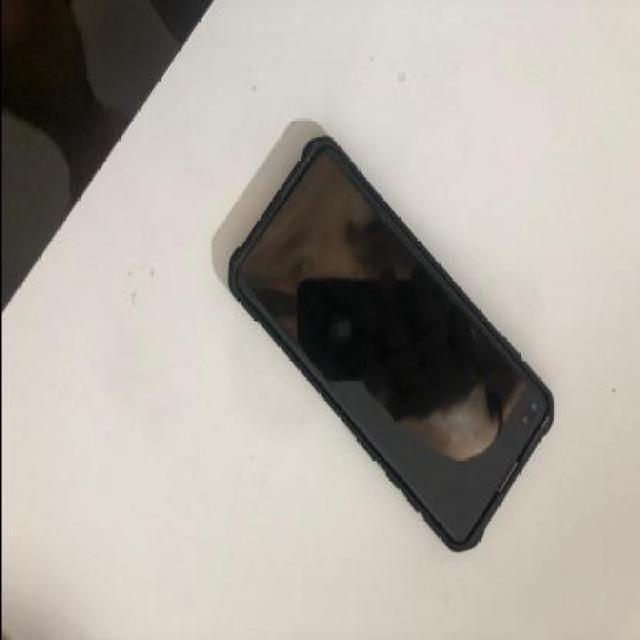phone: (226, 137, 562, 553)
